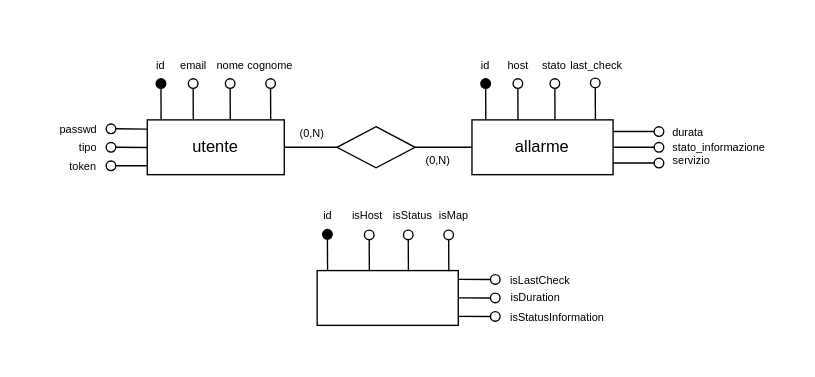
Image size: 815x377. Some labels were removed from this diagram. Each missing label, with the centre of its shape:
"campiCheck" goes at (387,297).
"visualizza" goes at (375,146).
